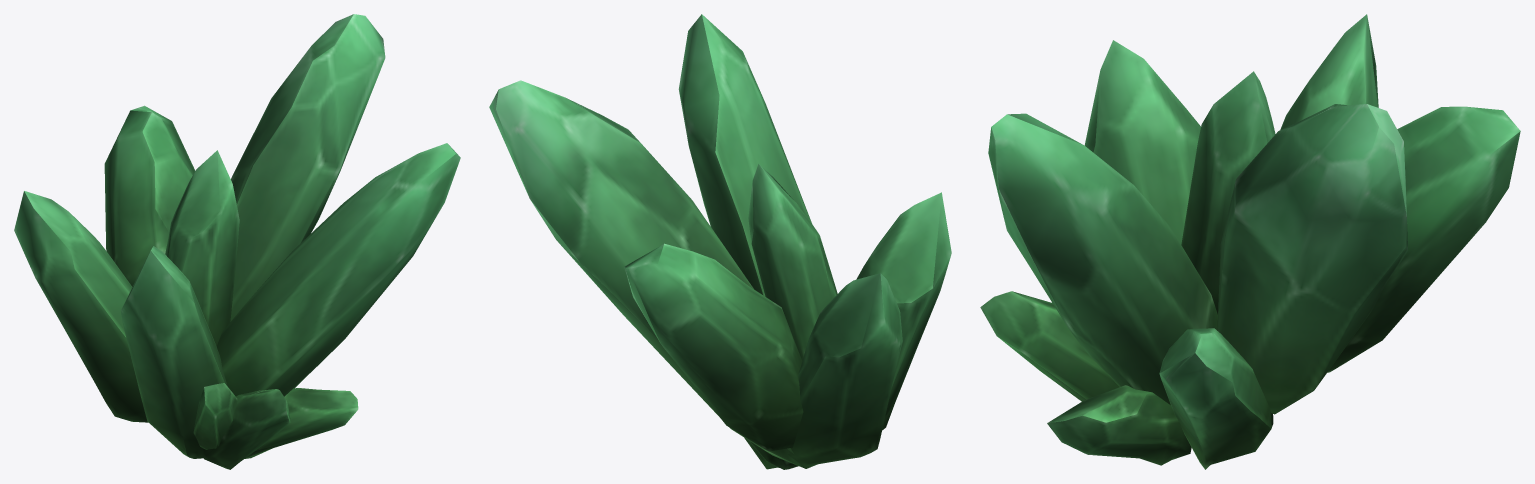
The model's file is 09_ING_gem_green.glb.
3 renders of one model, left to right at view 1: azimuth 30°, elevation 25°; view 2: azimuth 150°, elevation 25°; view 3: azimuth 270°, elevation 25°, orthographic. The views are drawn at different scales.
Parts seen in each view (by area): view 1: 09_ING_gem_green; view 2: 09_ING_gem_green; view 3: 09_ING_gem_green.
Boxes of the visible parts, x1=… form: 09_ING_gem_green: x1=14, y1=14, x2=460, y2=469; 09_ING_gem_green: x1=489, y1=14, x2=951, y2=469; 09_ING_gem_green: x1=980, y1=14, x2=1520, y2=469.
Size of the model in its own units: 0.1049 by 0.0953 by 0.0967.
Materials: 1 (1 with a texture image).
